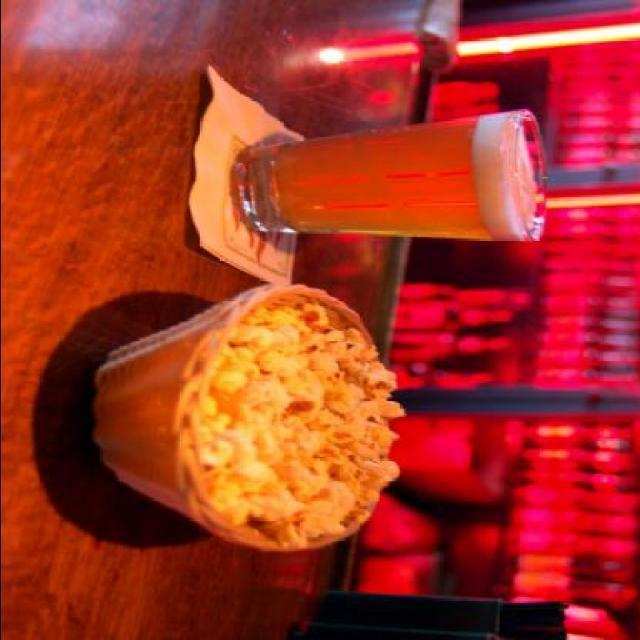Popcorn: (200, 303, 411, 546)
